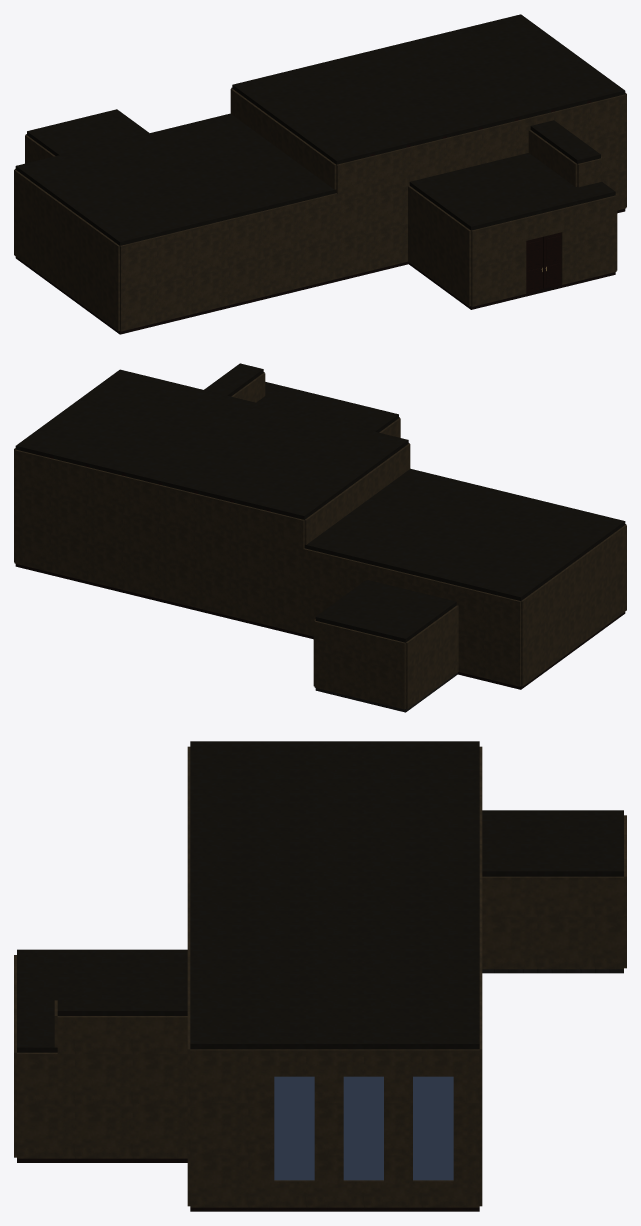
Rendered from miskatonic-library.glb.
3 views of the same model, one above another, from view 1: azimuth 30°, elevation 25°; view 2: azimuth 150°, elevation 25°; view 3: azimuth 270°, elevation 25° (orthographic). The views are drawn at different scales.
Parts seen in each view (by area): view 1: Ceilings, Walls, Floors, Door_Main_R, Door_Main_L; view 2: Walls, Ceilings, Floors; view 3: Ceilings, Walls, Window_Glass, Floors.
Boxes of the visible parts, x1,y1,x2,y2 form: Ceilings: [15, 14, 625, 245]; Walls: [14, 87, 626, 331]; Floors: [15, 208, 625, 334]; Door_Main_R: [543, 232, 561, 288]; Door_Main_L: [526, 237, 543, 292]; Walls: [14, 372, 626, 709]; Ceilings: [15, 363, 625, 642]; Floors: [15, 564, 625, 712]; Ceilings: [17, 741, 623, 1052]; Walls: [14, 746, 626, 1207]; Window_Glass: [274, 1076, 453, 1180]; Floors: [17, 969, 623, 1211].
Size of what is drawn, in the model's own units: 28.2 by 6.4 by 21.21.
20 materials, 10 textured.
